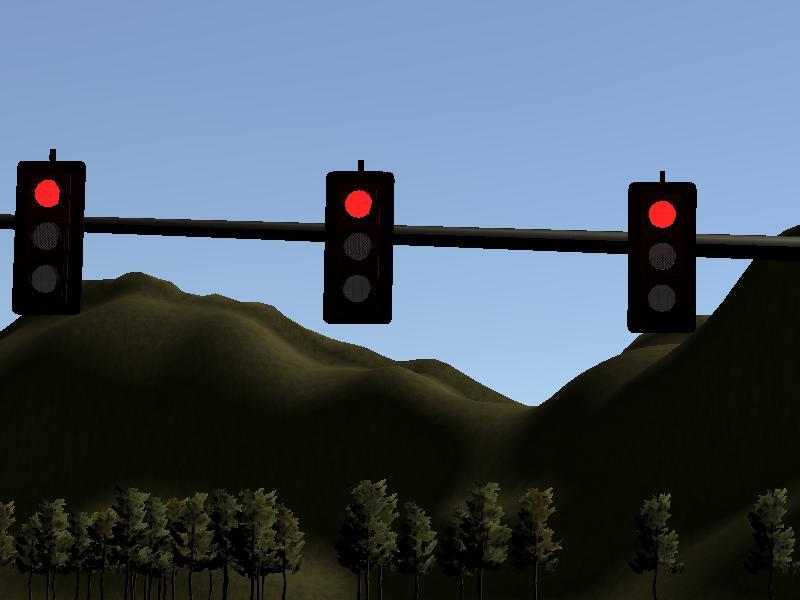Red: (322, 171, 395, 325), (12, 160, 84, 316), (626, 181, 697, 334)
